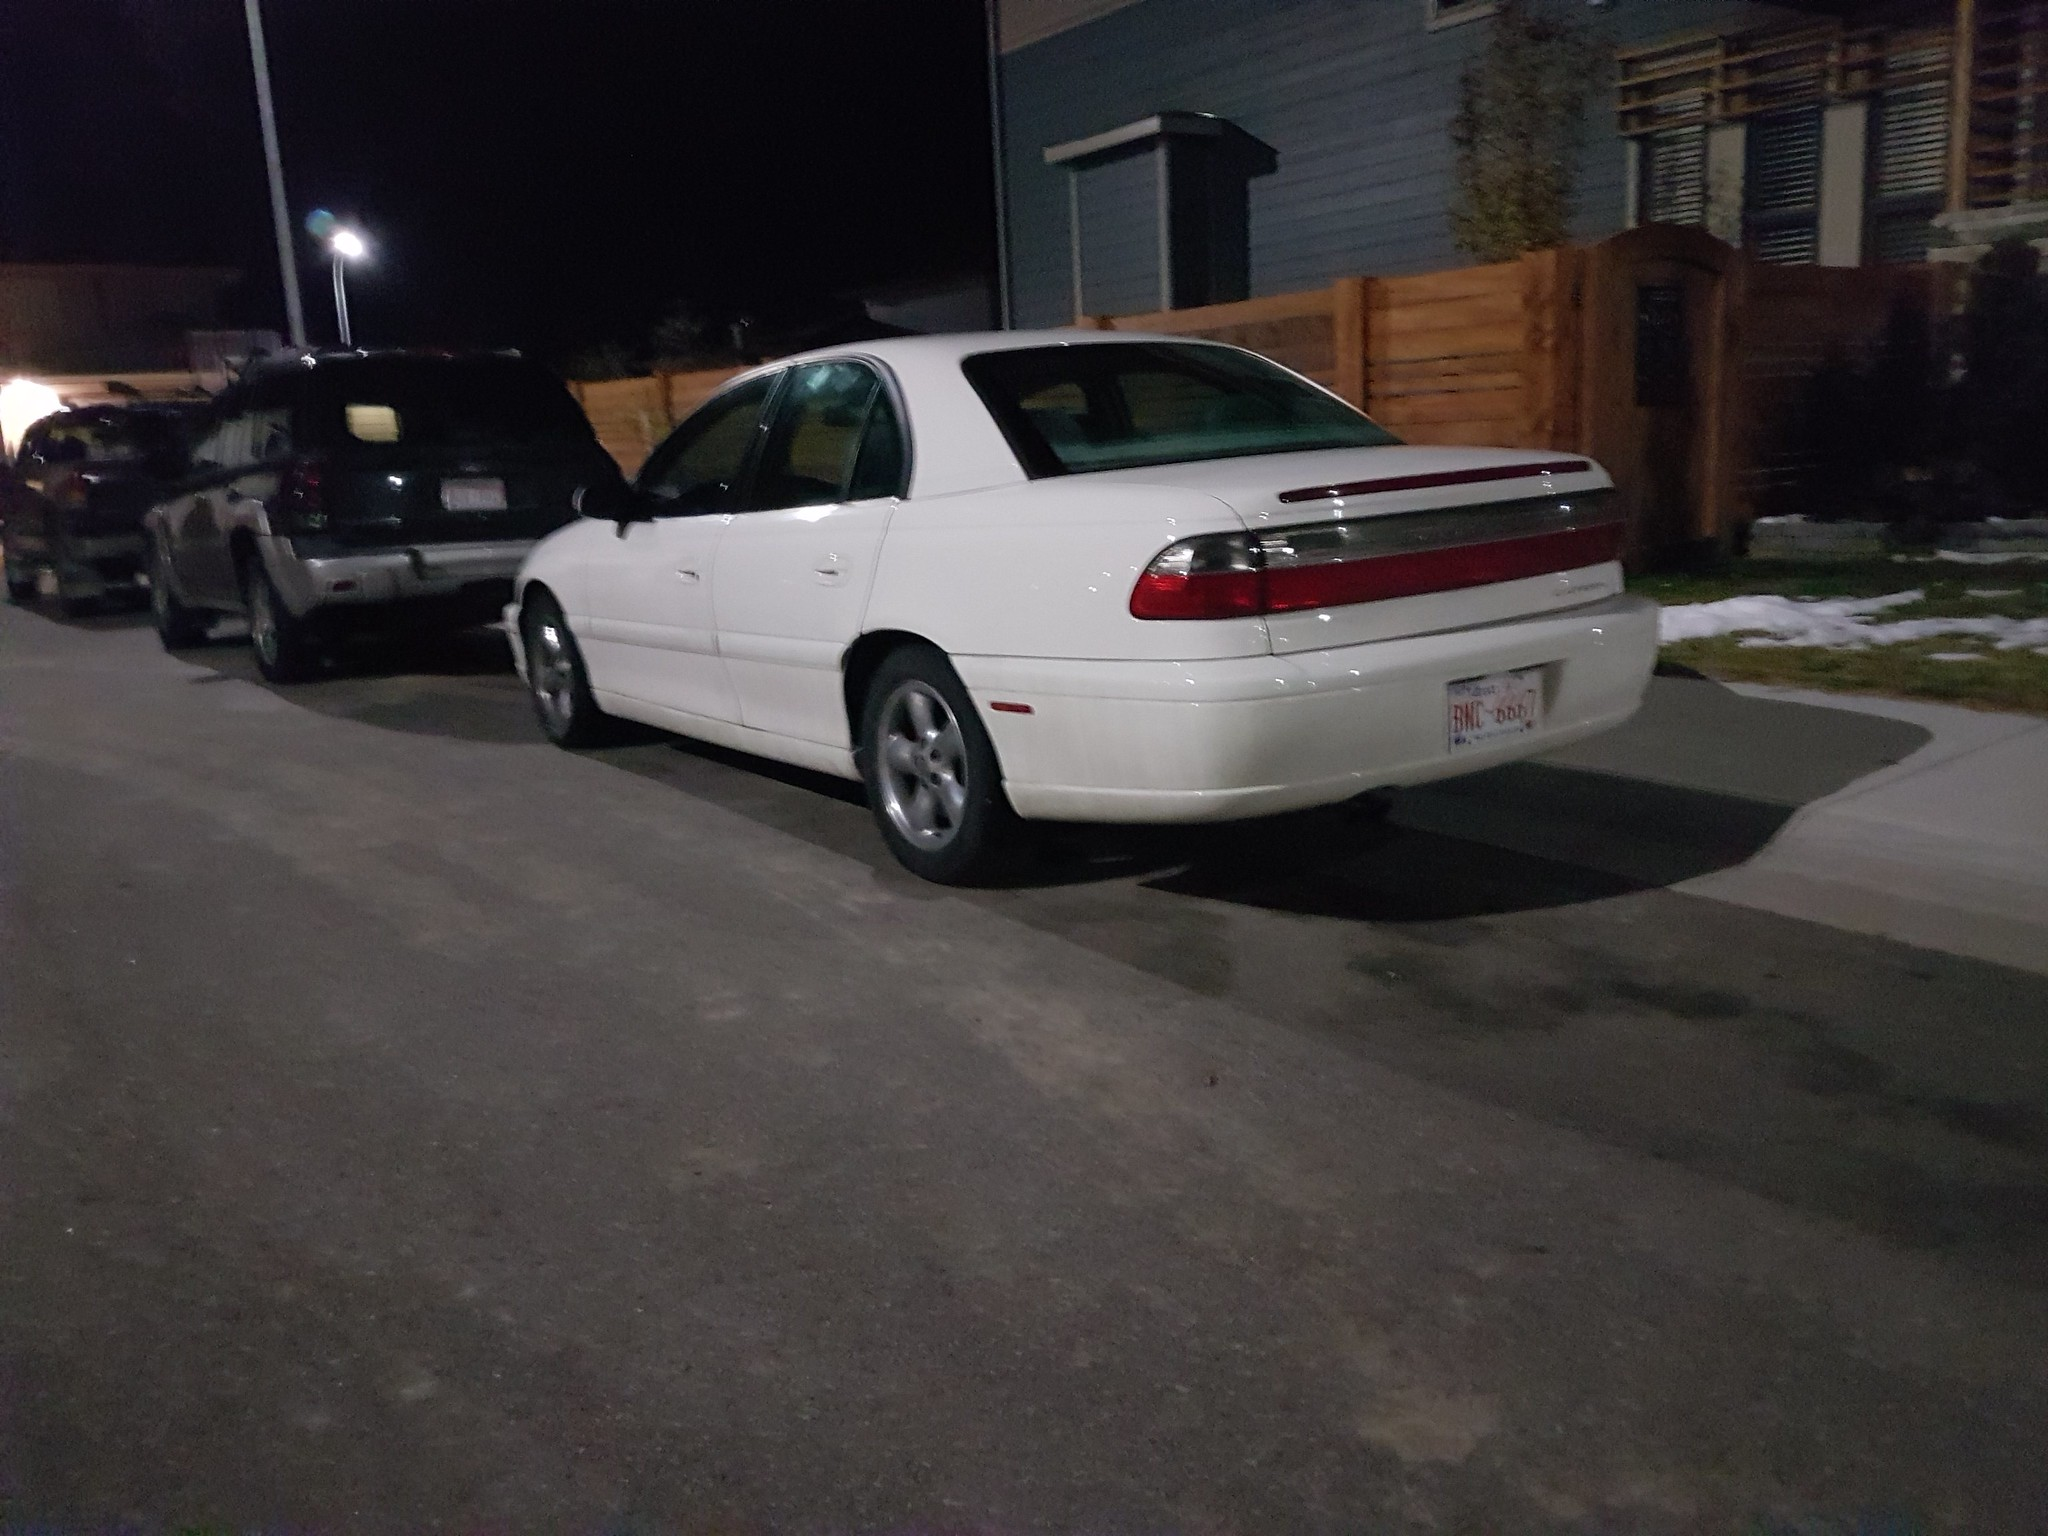Car: (502, 295, 1675, 863), (102, 265, 626, 687), (5, 344, 173, 645)
